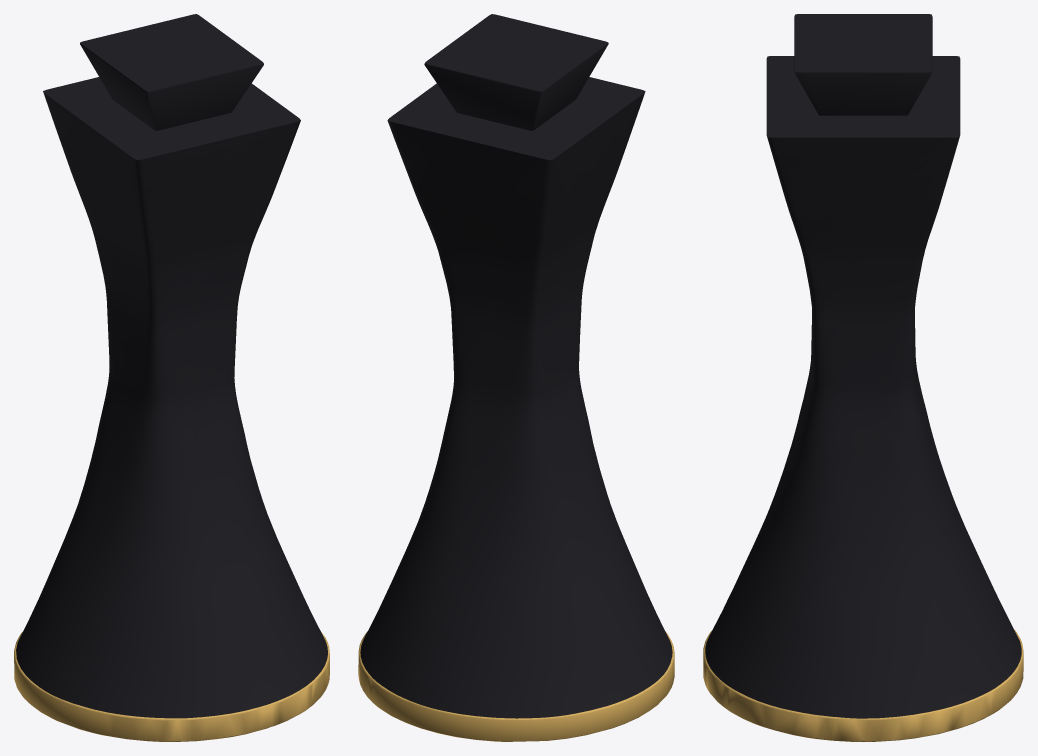
Rendered from king-black.glb.
The picture shows the model from 3 angles, left to right: view 1: azimuth 30°, elevation 25°; view 2: azimuth 150°, elevation 25°; view 3: azimuth 270°, elevation 25°; orthographic projection.
Parts seen in each view (by area): view 1: 06_kral_telo_0, 06_kral_telo_1, 06_kral_podstavec; view 2: 06_kral_telo_0, 06_kral_telo_1, 06_kral_podstavec; view 3: 06_kral_telo_0, 06_kral_telo_1, 06_kral_podstavec.
Part boxes in pixels (x1=…): 06_kral_telo_0: x1=16, y1=77, x2=327, y2=718; 06_kral_telo_1: x1=80, y1=14, x2=263, y2=130; 06_kral_podstavec: x1=14, y1=632, x2=329, y2=741; 06_kral_telo_0: x1=360, y1=77, x2=672, y2=718; 06_kral_telo_1: x1=424, y1=14, x2=608, y2=130; 06_kral_podstavec: x1=358, y1=631, x2=674, y2=741; 06_kral_telo_0: x1=705, y1=56, x2=1021, y2=718; 06_kral_telo_1: x1=794, y1=14, x2=932, y2=115; 06_kral_podstavec: x1=703, y1=629, x2=1023, y2=741.
Size of the model in its own units: 0.7586 by 1.65 by 0.7585.
